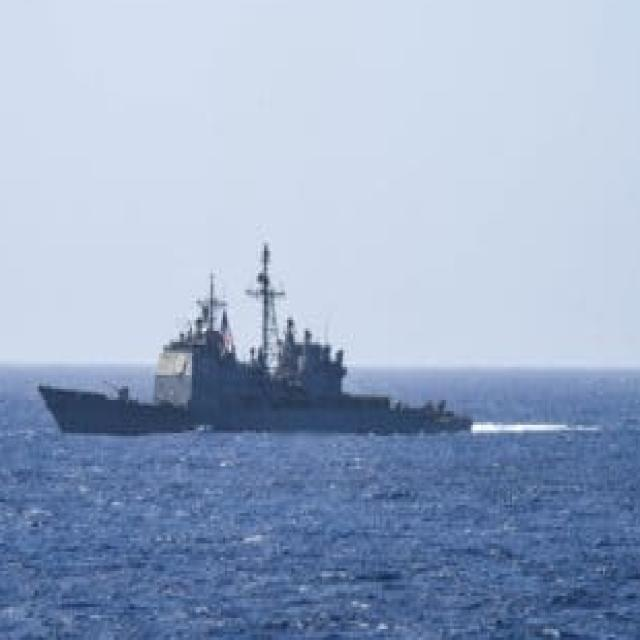navalvessels: (14, 217, 462, 458)
